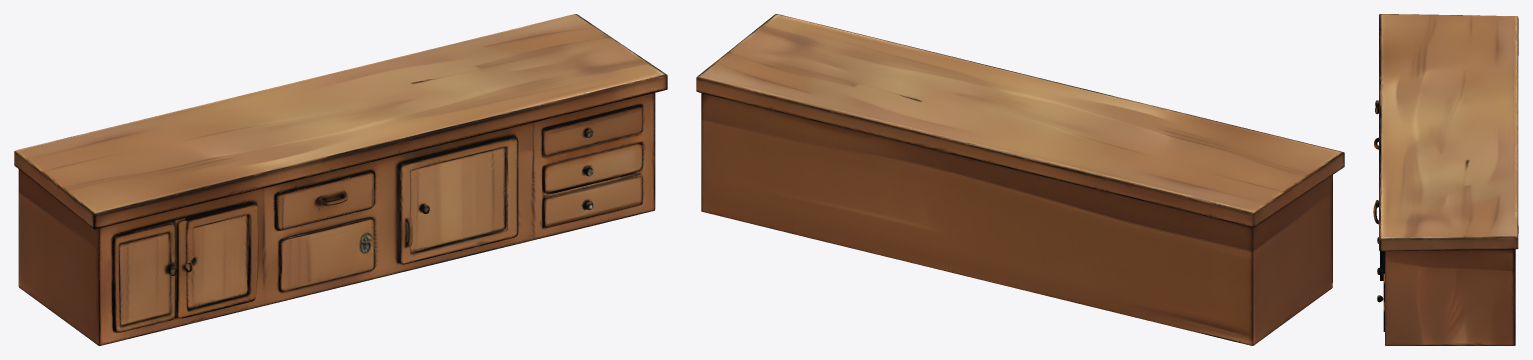
File: Mesa.fbx
3 renders of one model, left to right at view 1: azimuth 30°, elevation 25°; view 2: azimuth 150°, elevation 25°; view 3: azimuth 270°, elevation 25°, orthographic. The views are drawn at different scales.
Parts seen in each view (by area): view 1: model; view 2: model; view 3: model.
Boxes of the visible parts, <box> form: model: <box>14,14,667,345</box>; model: <box>696,14,1344,345</box>; model: <box>1373,14,1518,345</box>.
Bounding box in the file's own units: 178 × 40.57 × 48.24.
